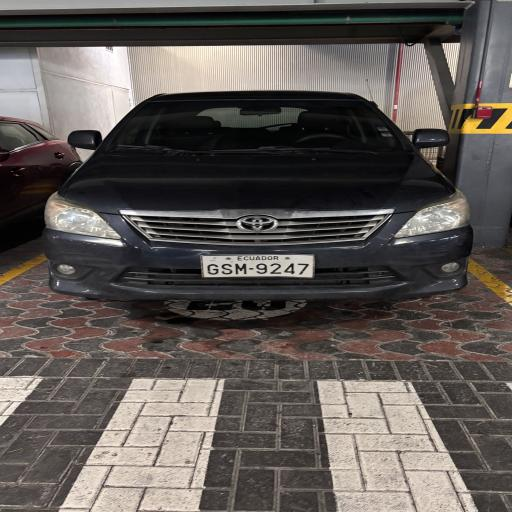license_plate: (201, 255, 314, 278)
